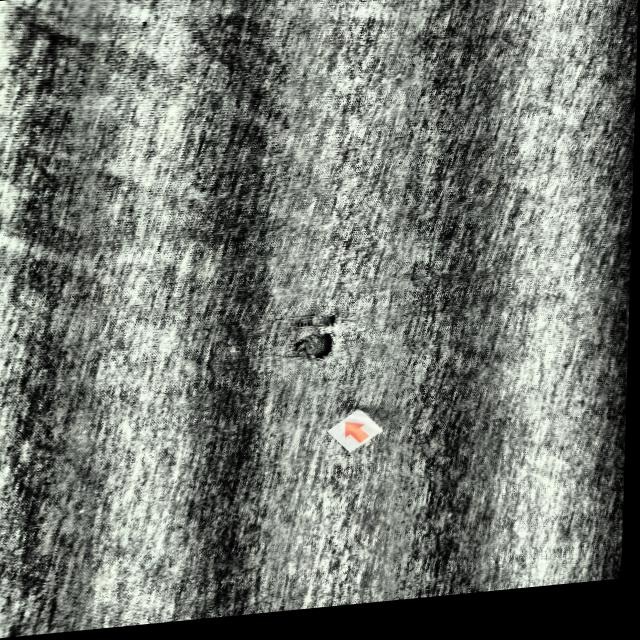Hole: (285, 337, 345, 383), (281, 312, 356, 338)
